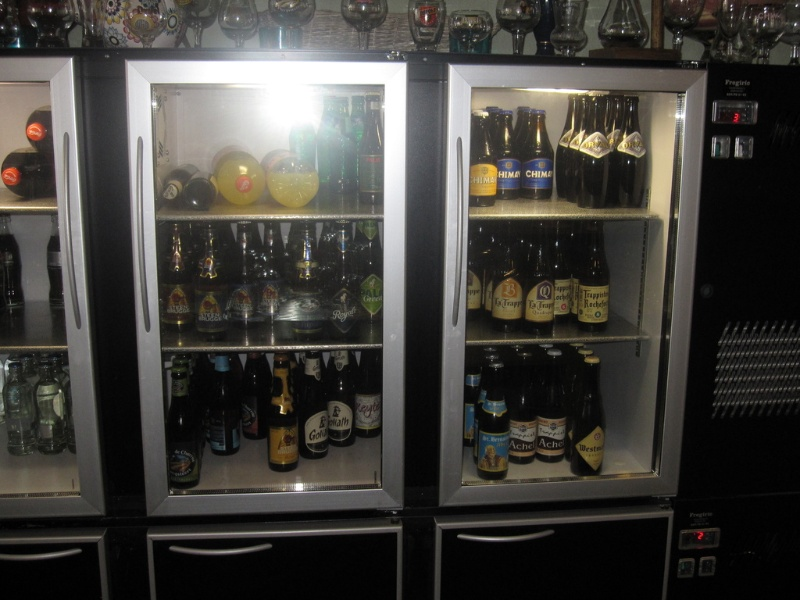refrigerator: (99, 56, 422, 600), (432, 54, 686, 587)
